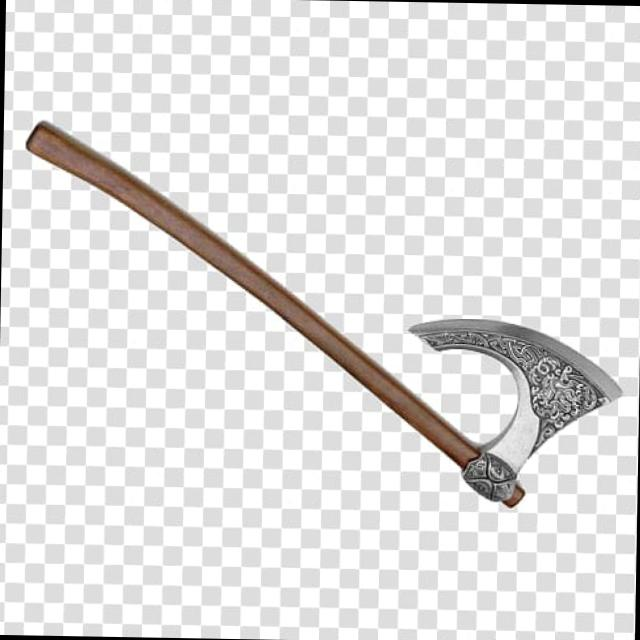Gun: (0, 109, 640, 586)
